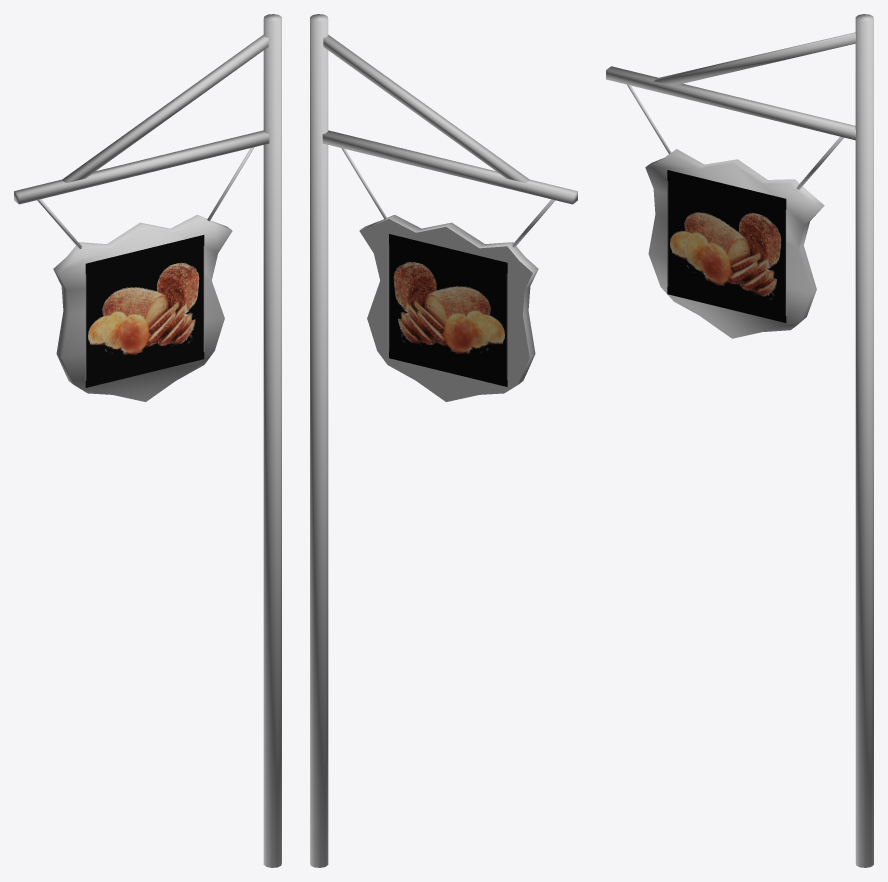
Rendered from sign4.fbx.
3 views of the same model, side by side, from view 1: azimuth 30°, elevation 25°; view 2: azimuth 150°, elevation 25°; view 3: azimuth 330°, elevation 25° (orthographic).
Parts seen in each view (by area): view 1: wood3, sign4, wood2, fabric1; view 2: wood3, sign4, wood2, fabric1; view 3: wood3, sign4, wood2, fabric1.
Boxes of the visible parts, bbox=[...] form: wood3: bbox=[14, 14, 281, 867]; sign4: bbox=[85, 235, 204, 387]; wood2: bbox=[53, 214, 232, 401]; fabric1: bbox=[37, 147, 254, 249]; wood3: bbox=[310, 14, 577, 867]; sign4: bbox=[389, 234, 507, 386]; wood2: bbox=[359, 214, 538, 401]; fabric1: bbox=[341, 148, 555, 247]; wood3: bbox=[606, 14, 873, 867]; sign4: bbox=[667, 170, 786, 322]; wood2: bbox=[645, 149, 824, 338]; fabric1: bbox=[627, 84, 843, 189].
Bounding box in the file's own units: 17.15 × 52.56 × 1.09.
